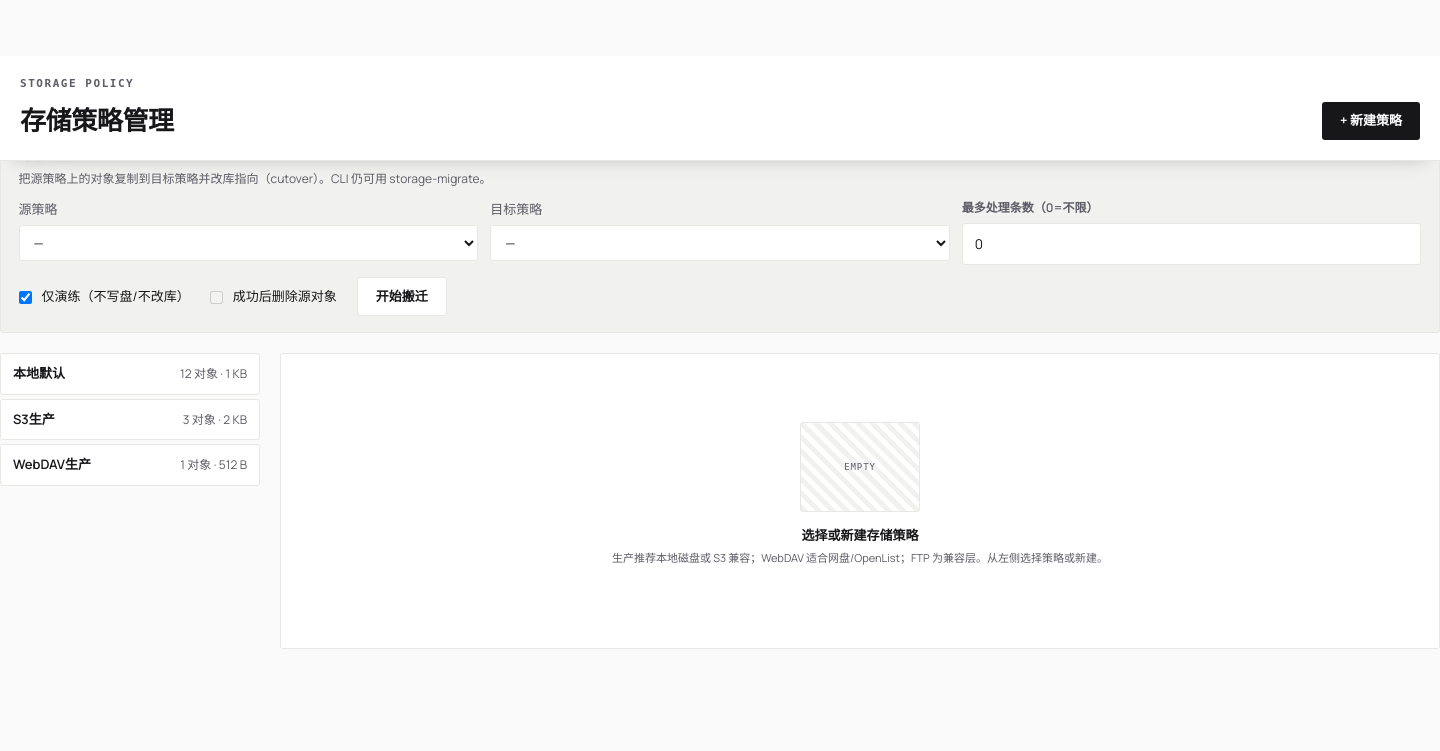
Scenario: 新建态选 WebDAV 驱动:webdav 字段出现,s3 与 local 字段隐藏
Click the button "+ 新建策略".
click(1371, 121)  # box [1322, 102, 1420, 140]
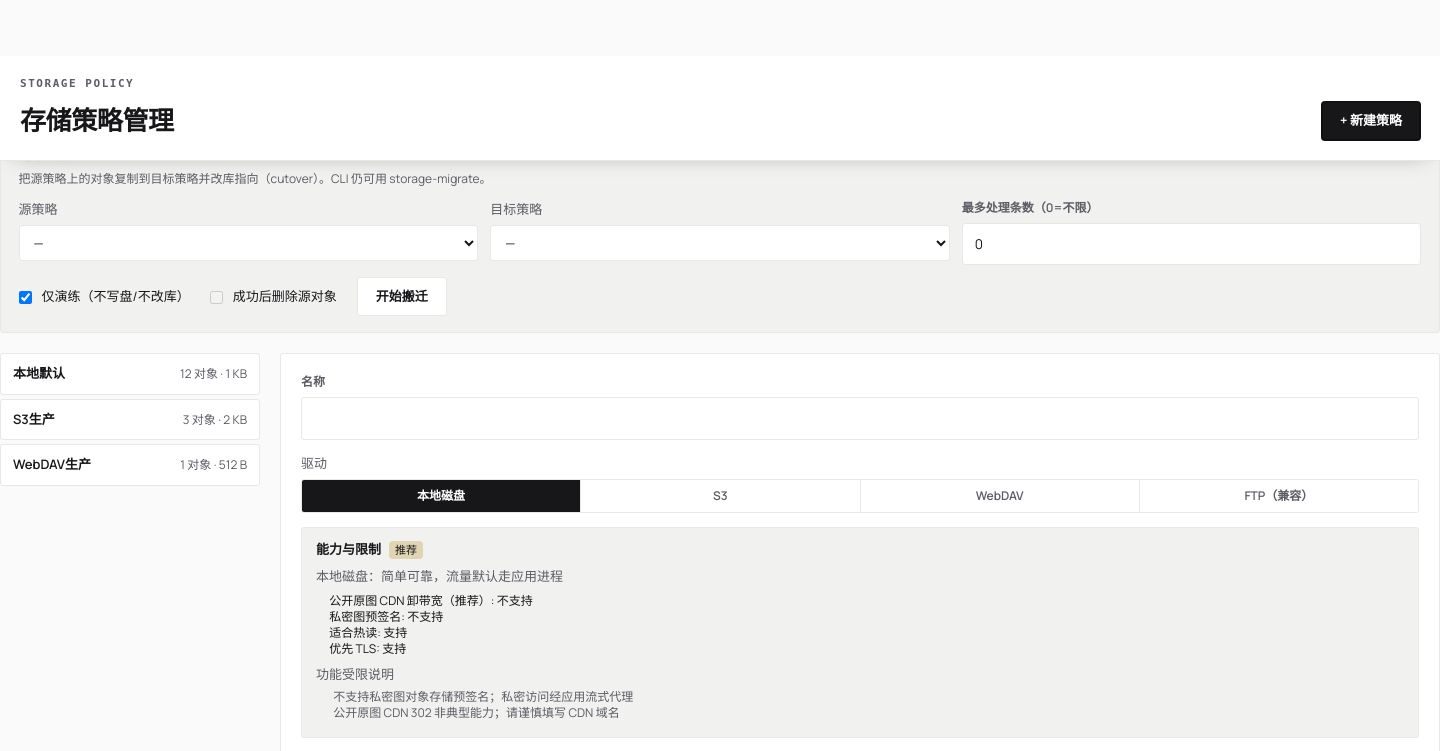
Click the button "WebDAV".
click(999, 496)  # box [860, 480, 1139, 512]
(page scrolled)
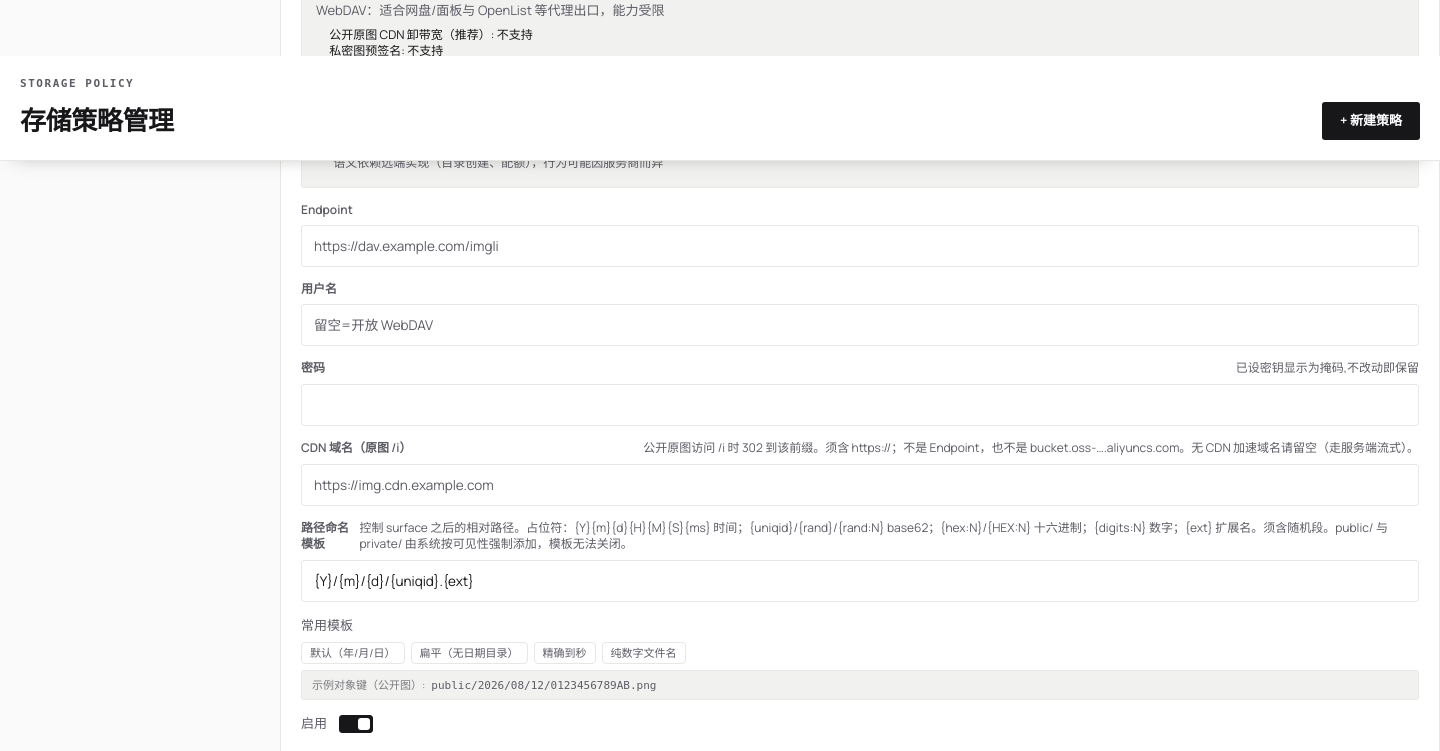
Check: the field labelled "Endpoint" is shown, box [301, 225, 1419, 267]
Check: the field labelled "用户名" is shown, box [301, 304, 1419, 346]
Check: the field labelled "密码" is shown, box [301, 384, 1419, 426]
